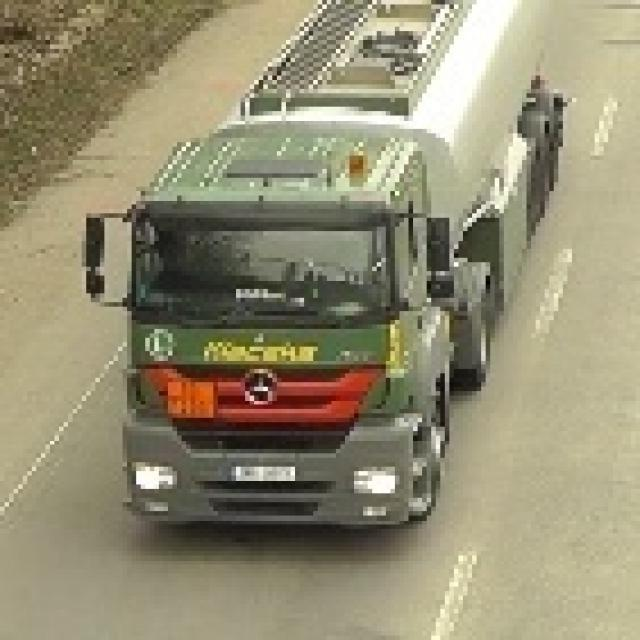truck: (87, 0, 568, 529)
